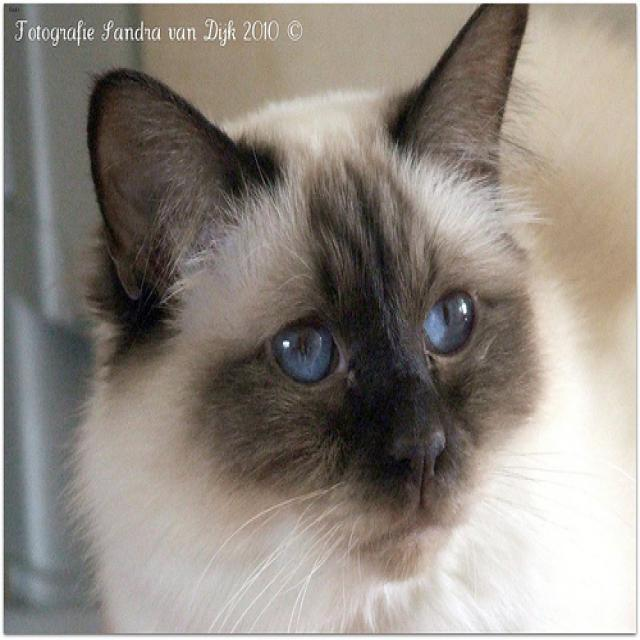Birman: (86, 2, 540, 580)
